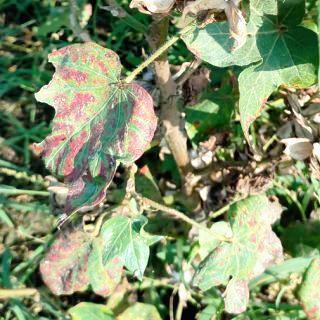blight: (26, 28, 167, 208), (32, 196, 174, 305), (184, 177, 287, 315)
